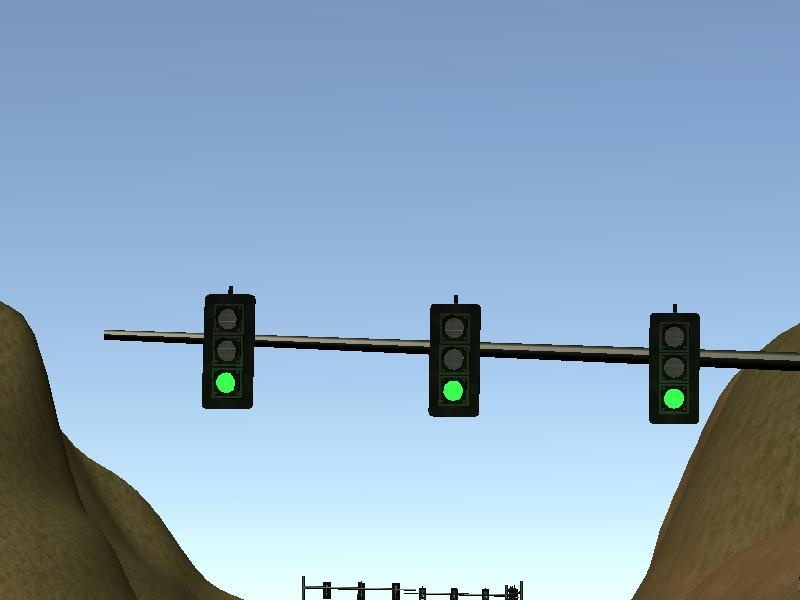GREEN: (203, 295, 254, 409), (429, 302, 480, 416), (648, 312, 699, 426)
